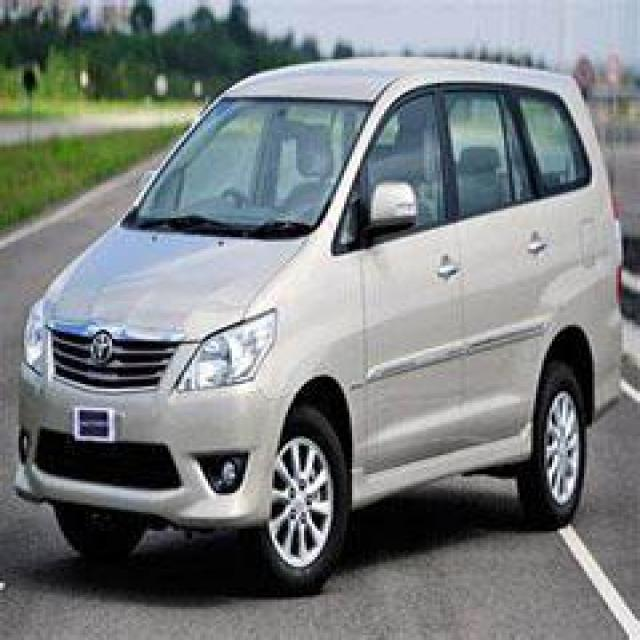car: (5, 13, 632, 625)
